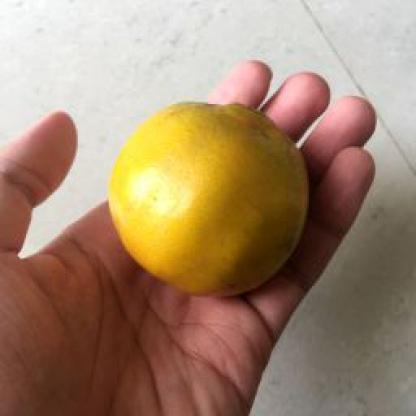orange: (104, 99, 312, 301)
